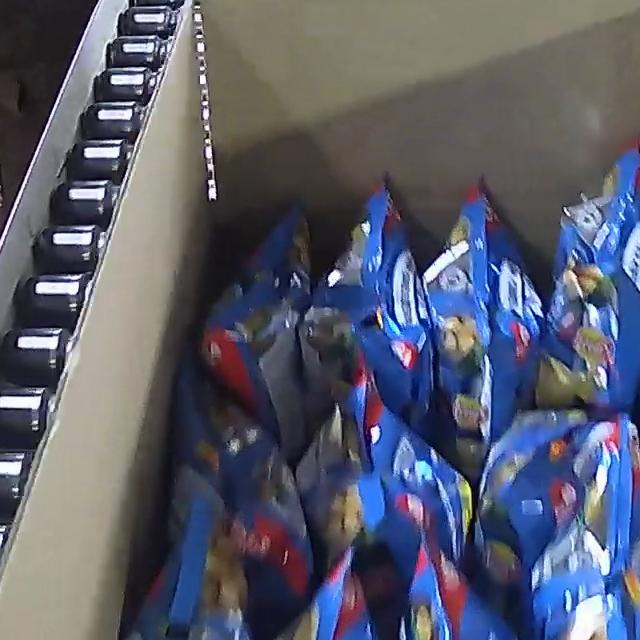paprika: (87, 139, 640, 640)
